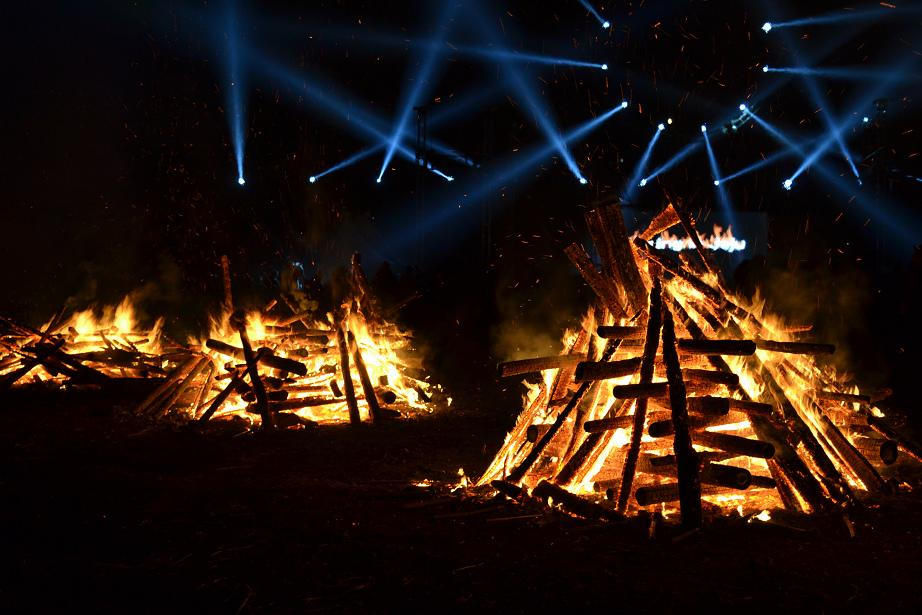fire: (752, 347, 827, 413), (357, 315, 403, 383), (65, 303, 135, 343), (662, 230, 740, 252), (212, 315, 268, 343)
